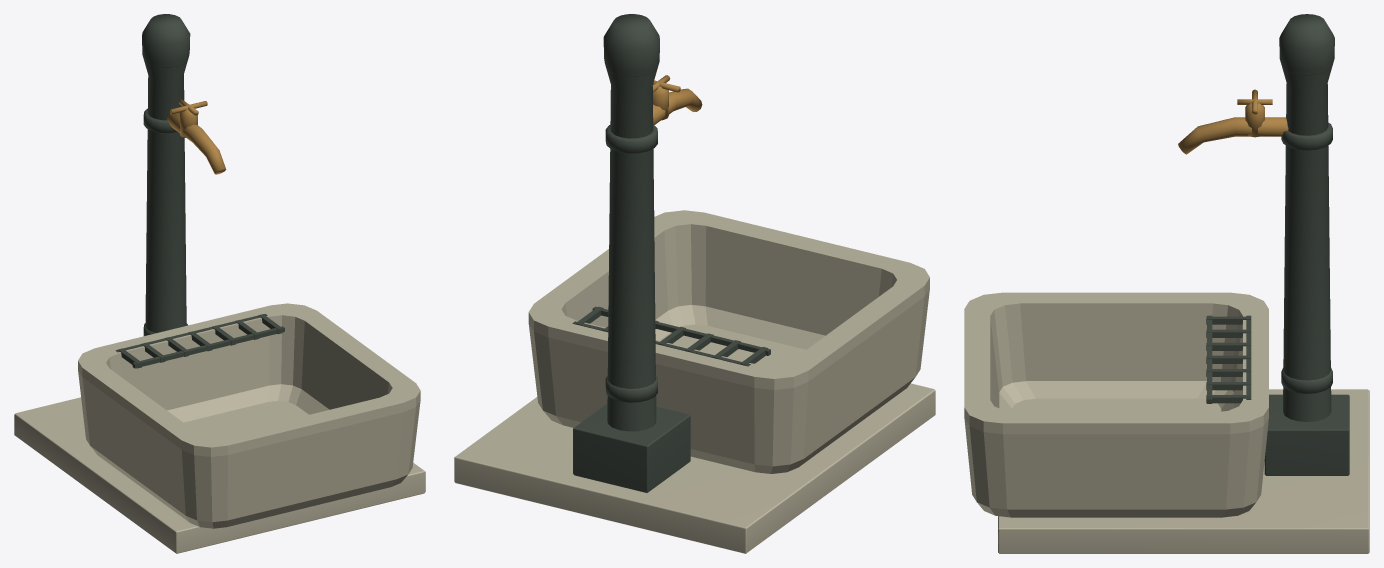
The model's file is rpg-mansion-garden-standpipe-drain-basin-01.glb.
3 views of the same model, side by side, from view 1: azimuth 30°, elevation 25°; view 2: azimuth 150°, elevation 25°; view 3: azimuth 270°, elevation 25° (orthographic). The views are drawn at different scales.
Parts seen in each view (by area): view 1: rpg-mansion-garden-standpipe-drain-basin-01; view 2: rpg-mansion-garden-standpipe-drain-basin-01; view 3: rpg-mansion-garden-standpipe-drain-basin-01.
Boxes of the visible parts, x1,y1,x2,y2 form: rpg-mansion-garden-standpipe-drain-basin-01: [14, 14, 425, 553]; rpg-mansion-garden-standpipe-drain-basin-01: [454, 14, 935, 553]; rpg-mansion-garden-standpipe-drain-basin-01: [964, 14, 1369, 553].
Size of the model in its own units: 0.64 by 0.99 by 0.785.
